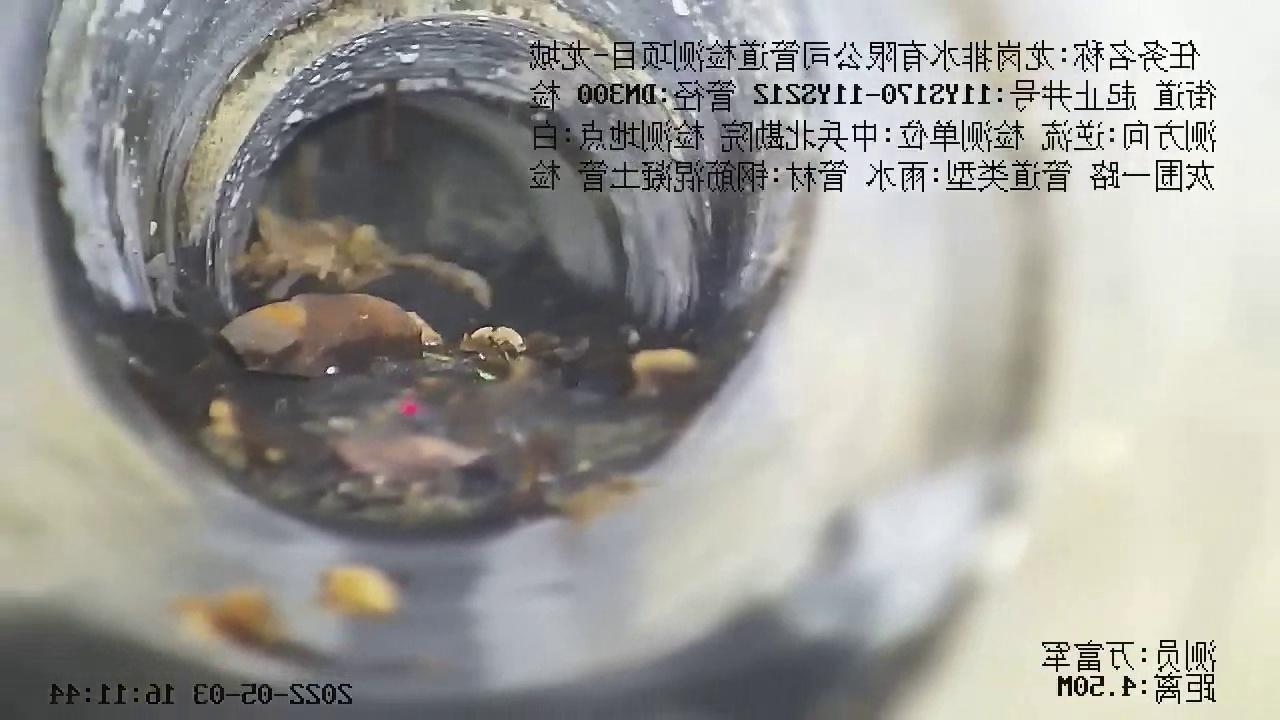CJ: (175, 208, 746, 528)
CKTJ: (179, 0, 649, 234), (655, 94, 681, 128)
